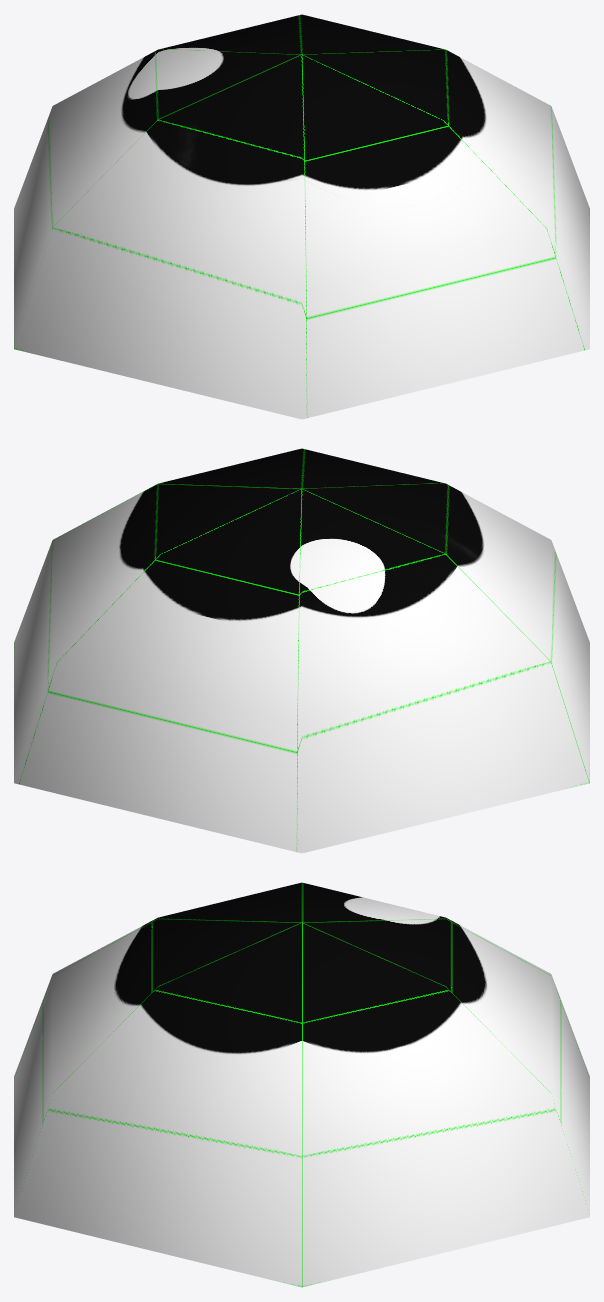
Rendered from Left_eye.fbx.
The picture shows the model from 3 angles, top to bottom: view 1: azimuth 30°, elevation 25°; view 2: azimuth 150°, elevation 25°; view 3: azimuth 270°, elevation 25°; orthographic projection.
Parts seen in each view (by area): view 1: R_eye; view 2: R_eye; view 3: R_eye.
Boxes of the visible parts, x1,y1,x2,y2 form: R_eye: (14,14,589,419); R_eye: (14,448,589,853); R_eye: (14,882,589,1287).
Bounding box in the file's own units: 32.31 × 12.02 × 27.98.
